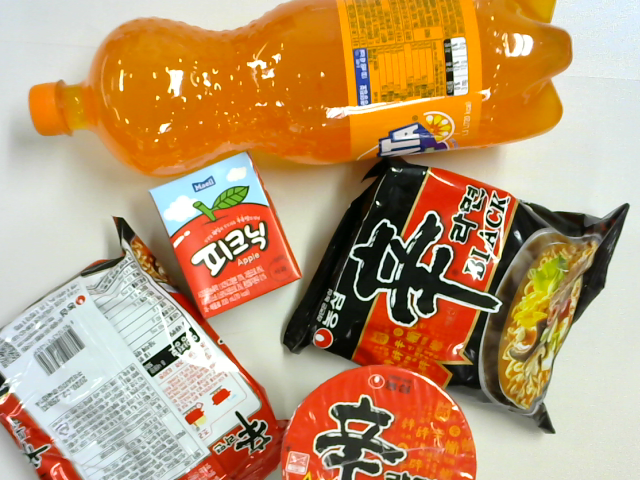Hwanta_Orange_1.5L: (28, 1, 571, 177)
Picnic_Apple: (149, 151, 305, 317)
Sinramen: (1, 217, 290, 480)
Sinramen_Black: (281, 156, 630, 436)
Sinramen_small: (280, 364, 478, 480)
